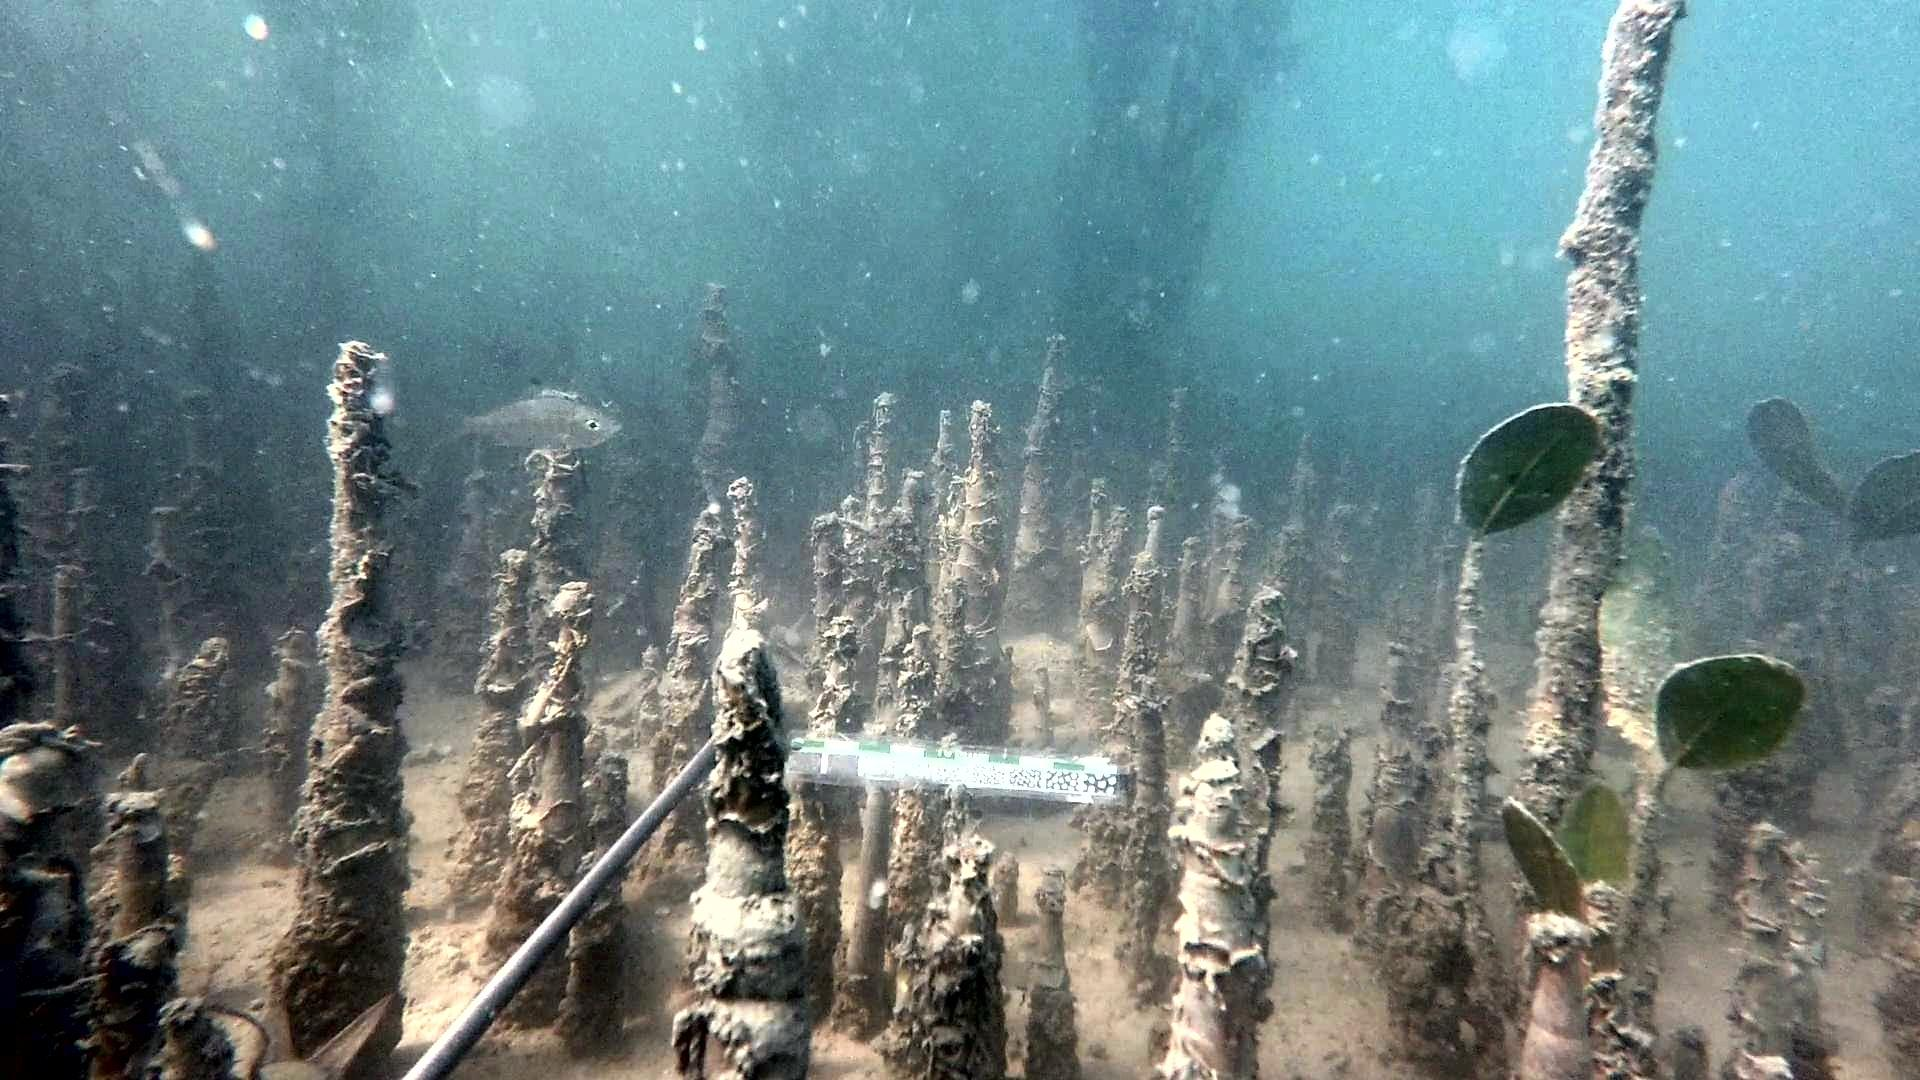gerres: (439, 376, 622, 454)
